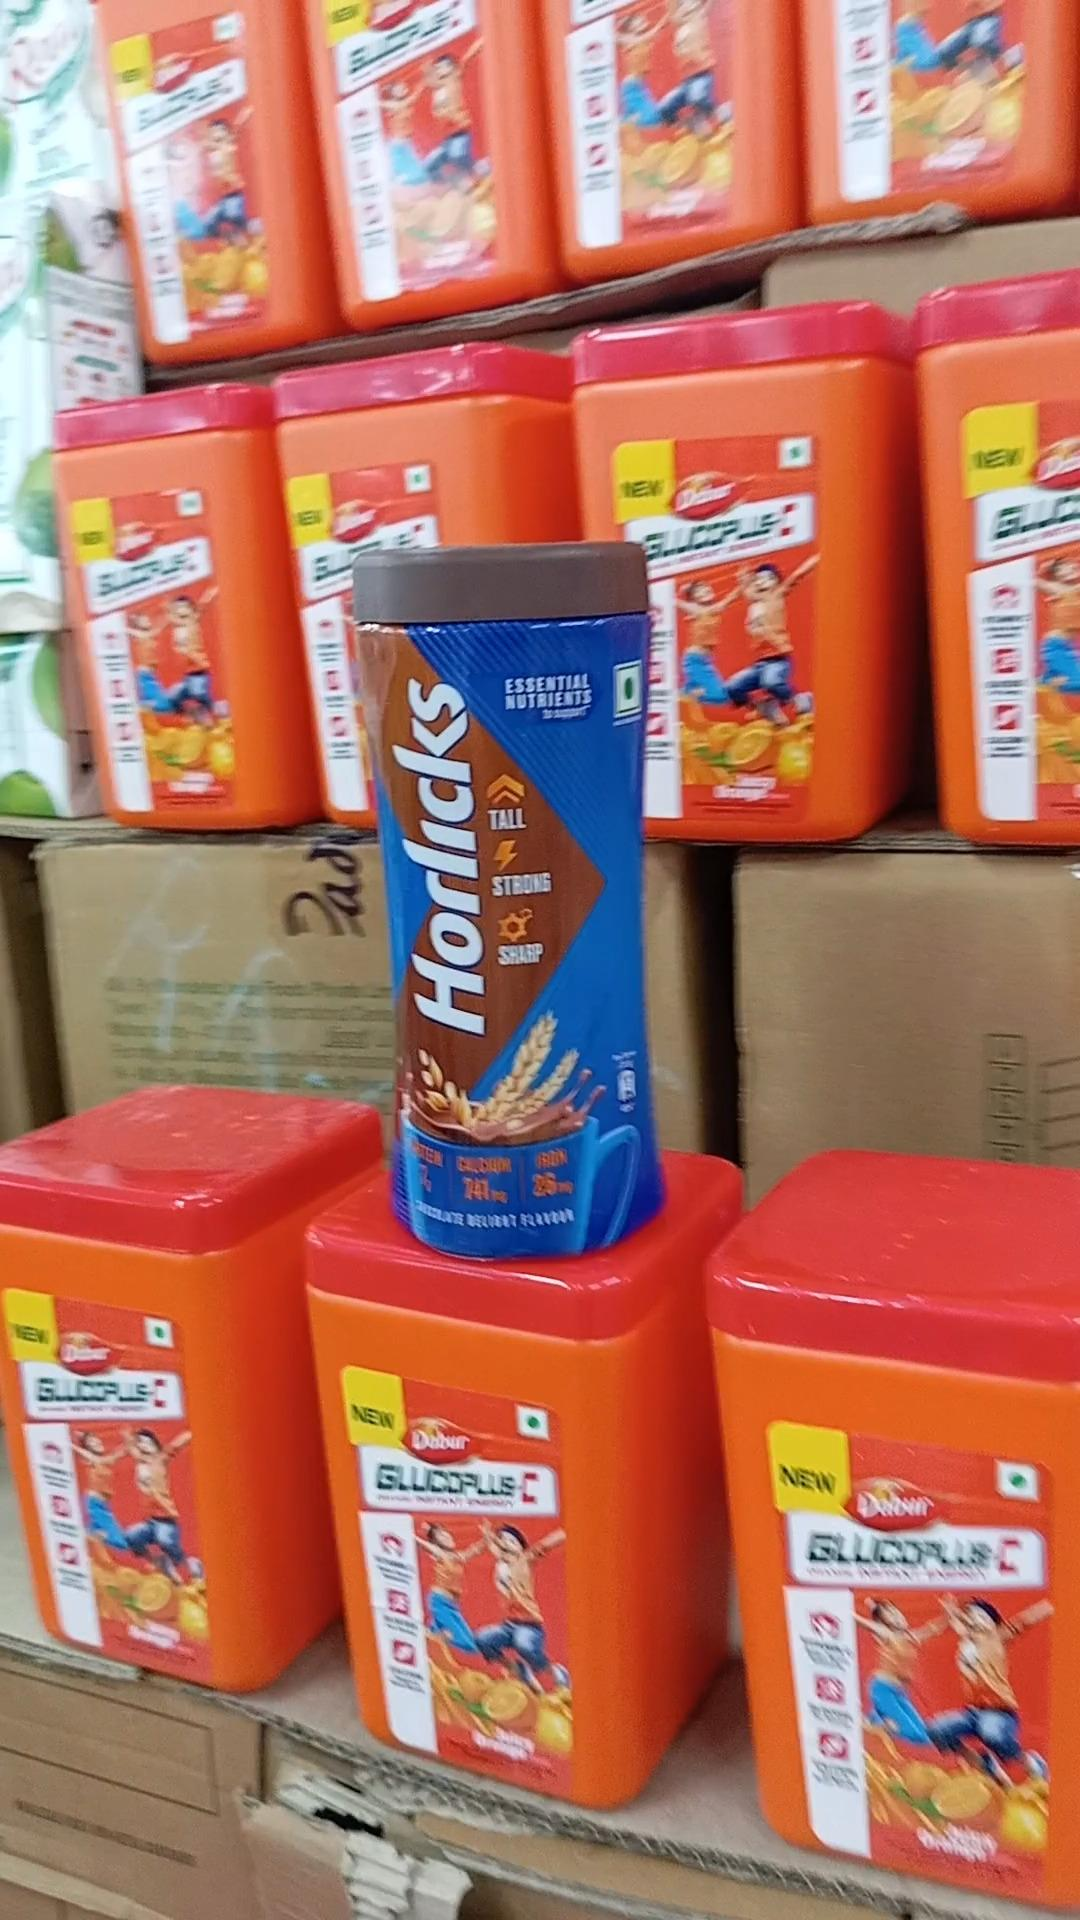HORLICK_CHOCOLATE_500_G_JAR: (357, 553, 654, 1247)
